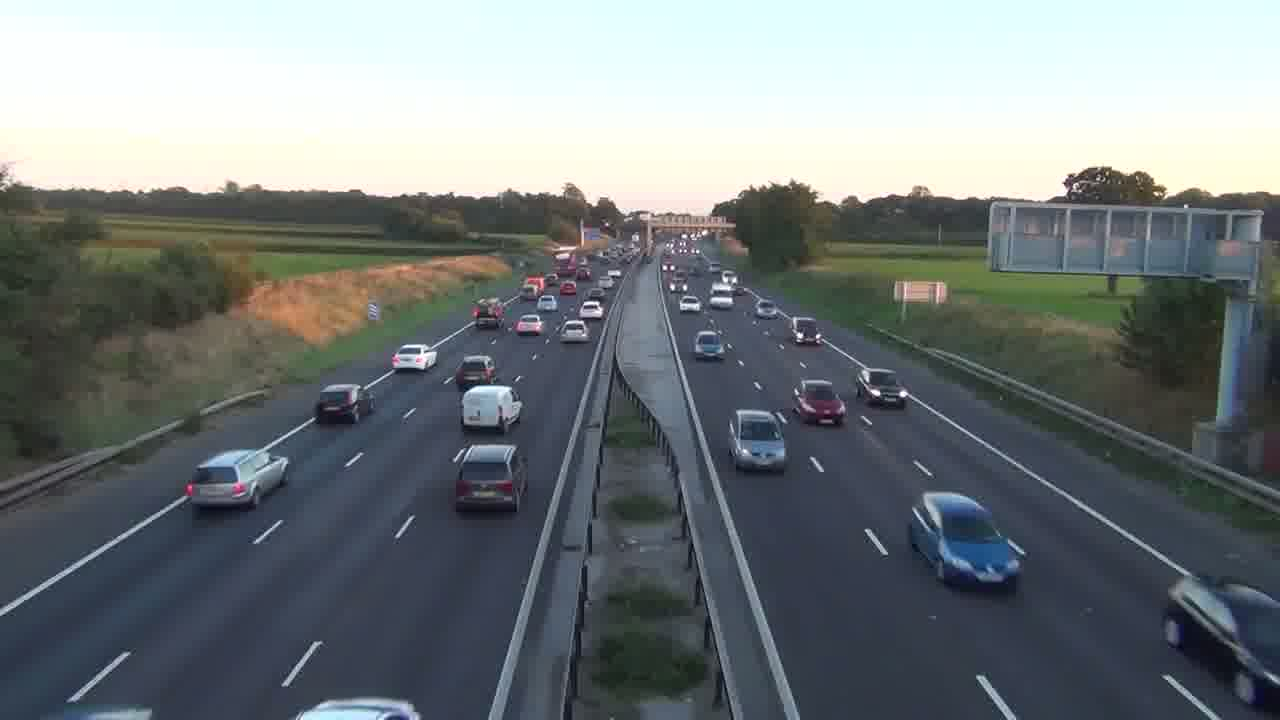car: (908, 490, 1028, 590), (186, 448, 289, 510), (452, 443, 529, 514), (728, 407, 788, 473), (461, 383, 523, 432), (792, 378, 848, 426), (315, 383, 376, 425), (854, 367, 908, 409), (454, 354, 496, 391), (693, 329, 725, 361), (557, 318, 591, 344)
truck: (1161, 574, 1280, 710), (461, 383, 523, 432)
